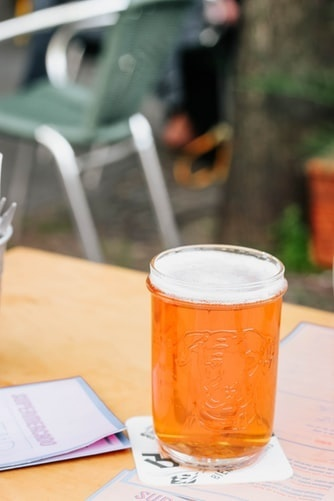whiskey: (142, 249, 287, 457)
